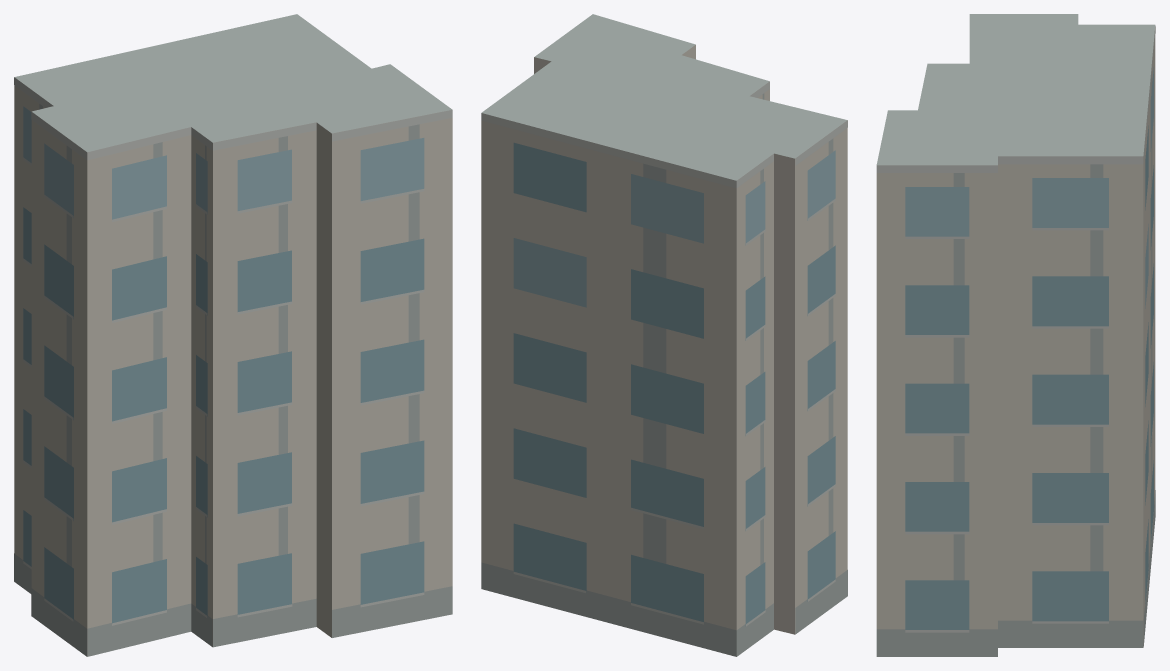
The model's file is survey-upis-32472688.glb.
3 renders of one model, left to right at view 1: azimuth 30°, elevation 25°; view 2: azimuth 150°, elevation 25°; view 3: azimuth 270°, elevation 25°, orthographic. The views are drawn at different scales.
Parts seen in each view (by area): view 1: survey-upis-32472688.tmp; view 2: survey-upis-32472688.tmp; view 3: survey-upis-32472688.tmp.
Part boxes in pixels (bbox=[...]): survey-upis-32472688.tmp: bbox=[14, 14, 452, 656]; survey-upis-32472688.tmp: bbox=[481, 14, 847, 656]; survey-upis-32472688.tmp: bbox=[876, 14, 1155, 656].
Bounding box in the file's own units: 10.08 × 15.25 × 7.85.
